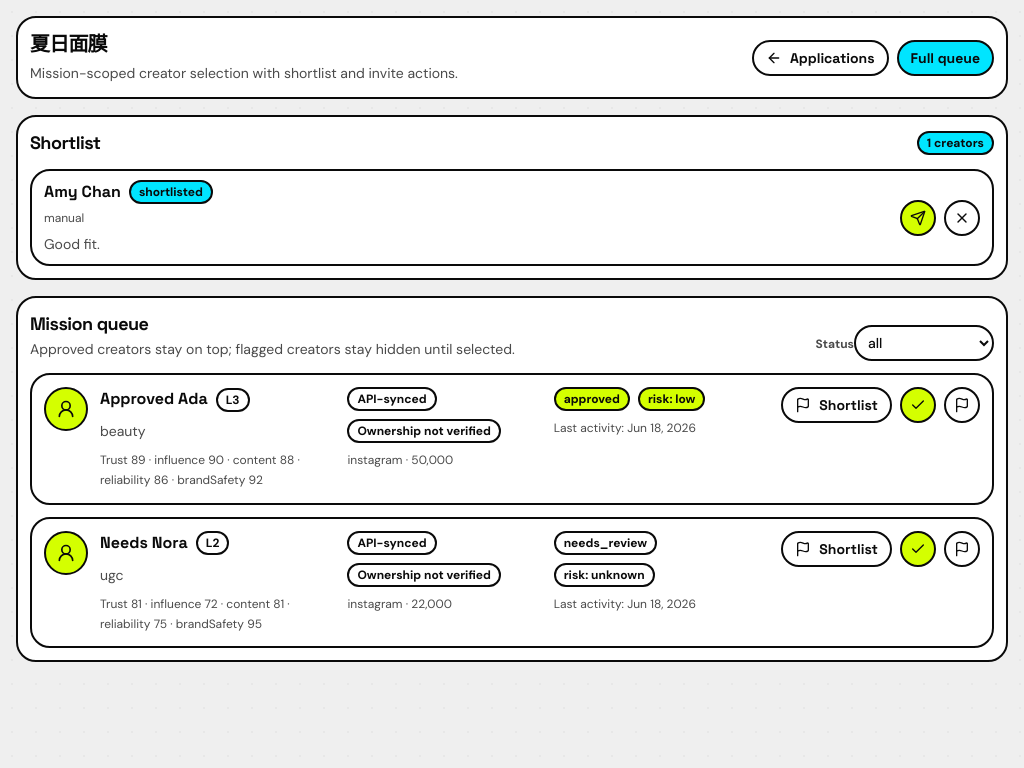
operator mission shortlist page › uses backend mission status filtering when flagged is selected
Check: the link "Approved Ada" is shown, box [100,388,208,412]
Check: the link "Needs Nora" is shown, box [100,531,188,556]
Select "Flagged" in the dropdown named "Status filter": (924, 344) [854,326,994,362]
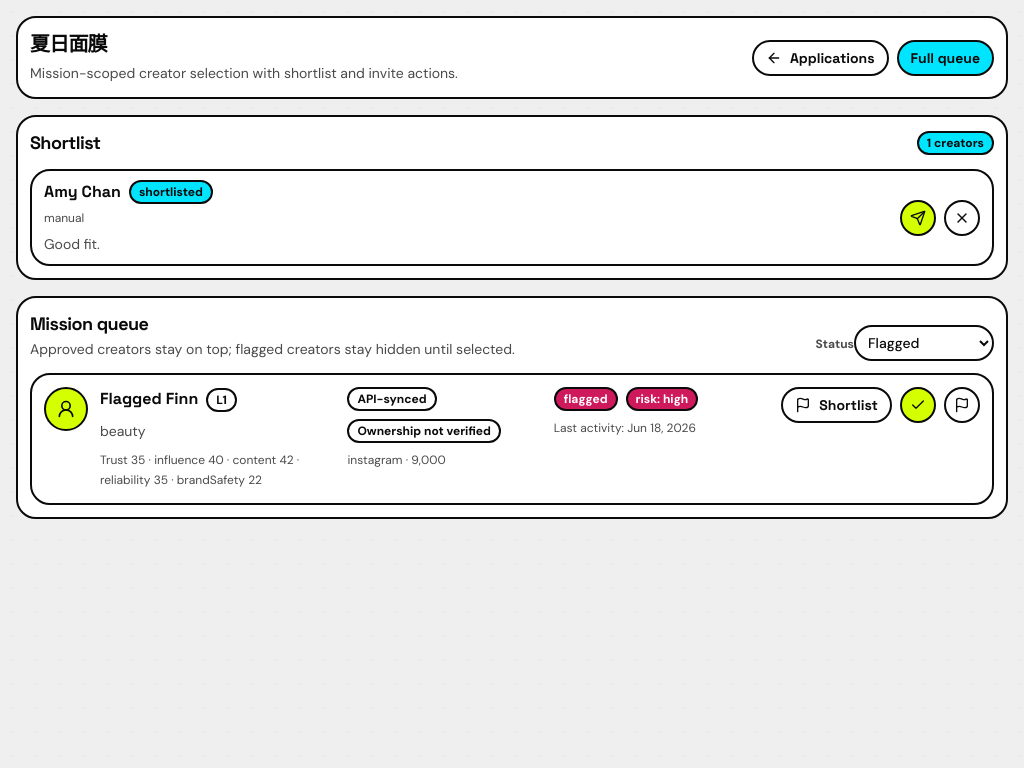
Check: the link "Flagged Finn" is shown, box [100,388,198,412]
Check: the link "Approved Ada" is gone
